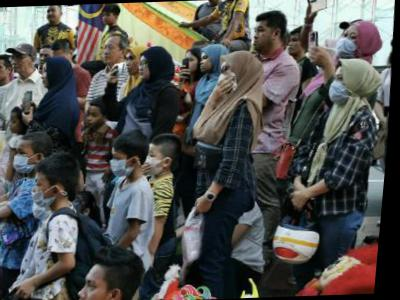NONE: (80, 275, 118, 300), (253, 24, 272, 51), (104, 43, 120, 65), (12, 54, 29, 74), (138, 57, 153, 79), (288, 36, 305, 55), (125, 54, 140, 75), (183, 56, 199, 75), (88, 111, 103, 129), (40, 52, 54, 70), (43, 67, 55, 88), (201, 55, 214, 73), (11, 116, 23, 134), (47, 7, 60, 22), (1, 62, 10, 82), (103, 11, 114, 25)
OK: (329, 73, 352, 105), (337, 30, 361, 58), (113, 150, 135, 178), (16, 145, 36, 174), (144, 150, 164, 177), (220, 64, 235, 93)
WRONG: (36, 177, 58, 207)
